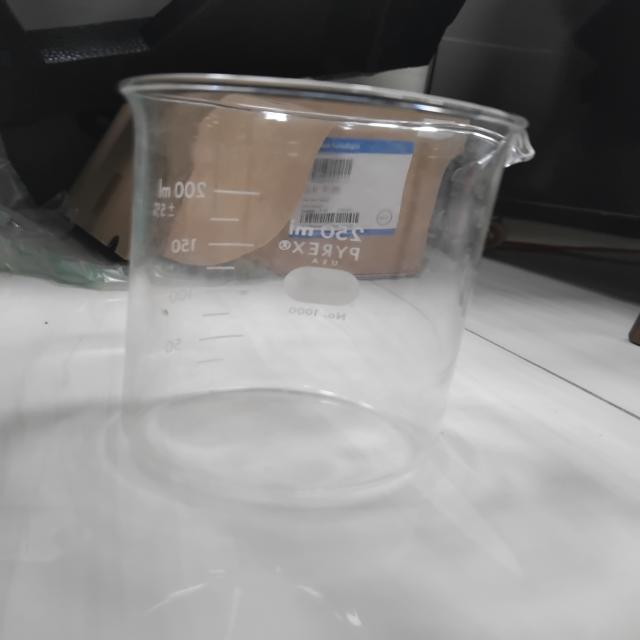Beaker: (65, 49, 549, 531)
